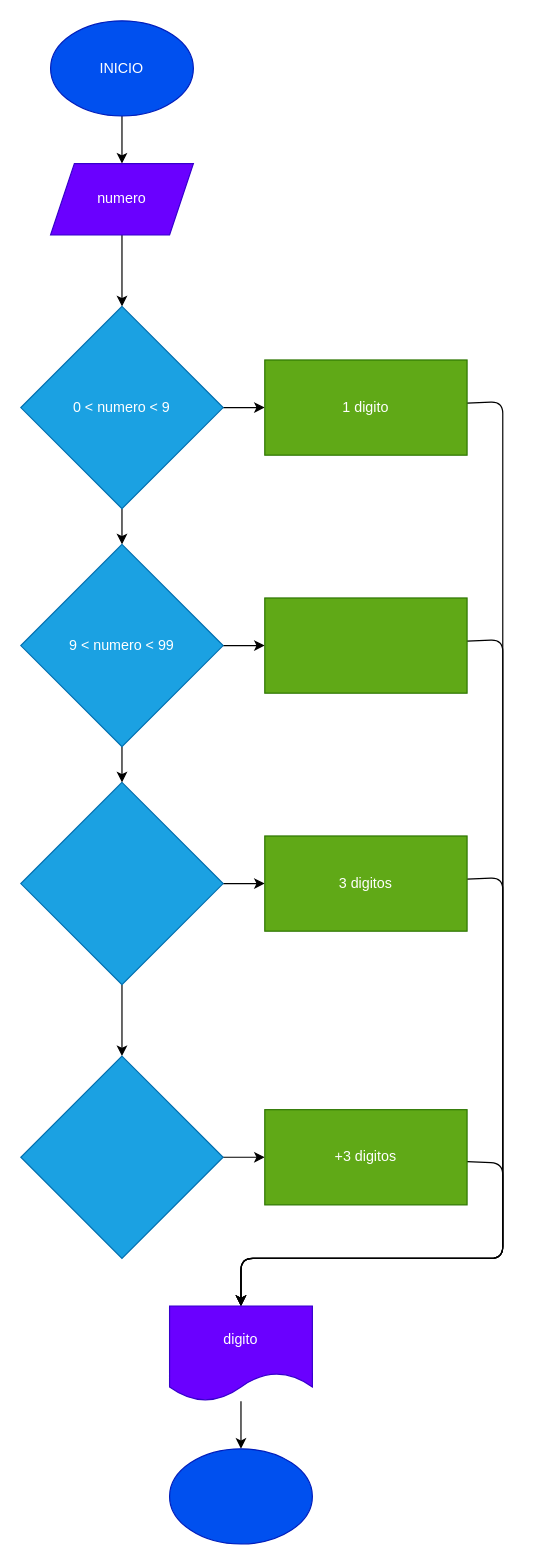
The diagram is 533 pixels wide and 1565 high, and some of its shapes have lost their labels. Here are the shapes that lost their labels. From the top down, the centre of each, then its label:
At point 365,645: "2 digitos".
At point 121,883: "99 < numero < 999".
At point 121,1156: "numero >= 1000".
At point 240,1496: "FIN".
